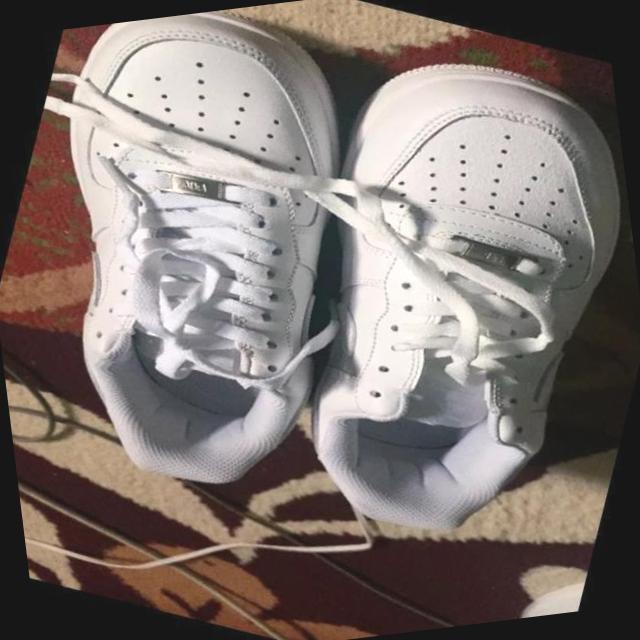nike_fake_airforce: (209, 8, 640, 598), (0, 0, 445, 534)
